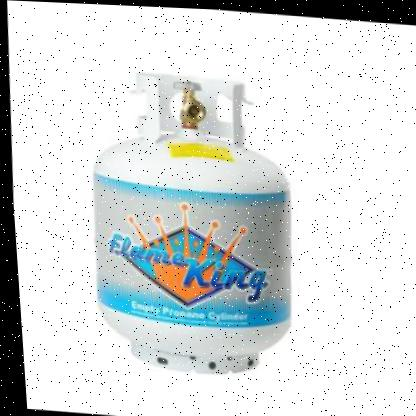gas-tank: (70, 56, 307, 387)
